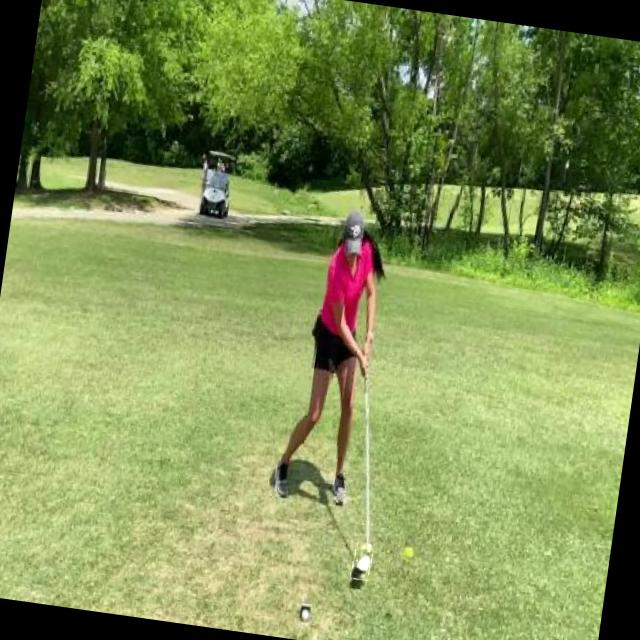club head: (350, 542, 374, 582)
